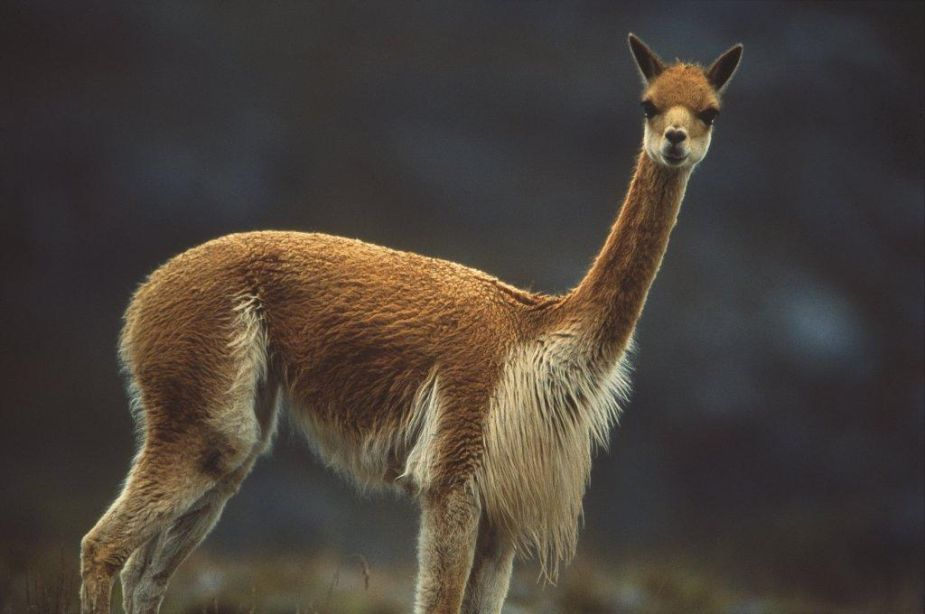eye: (636, 91, 665, 126), (694, 93, 717, 134)
mouth: (655, 137, 700, 170)
